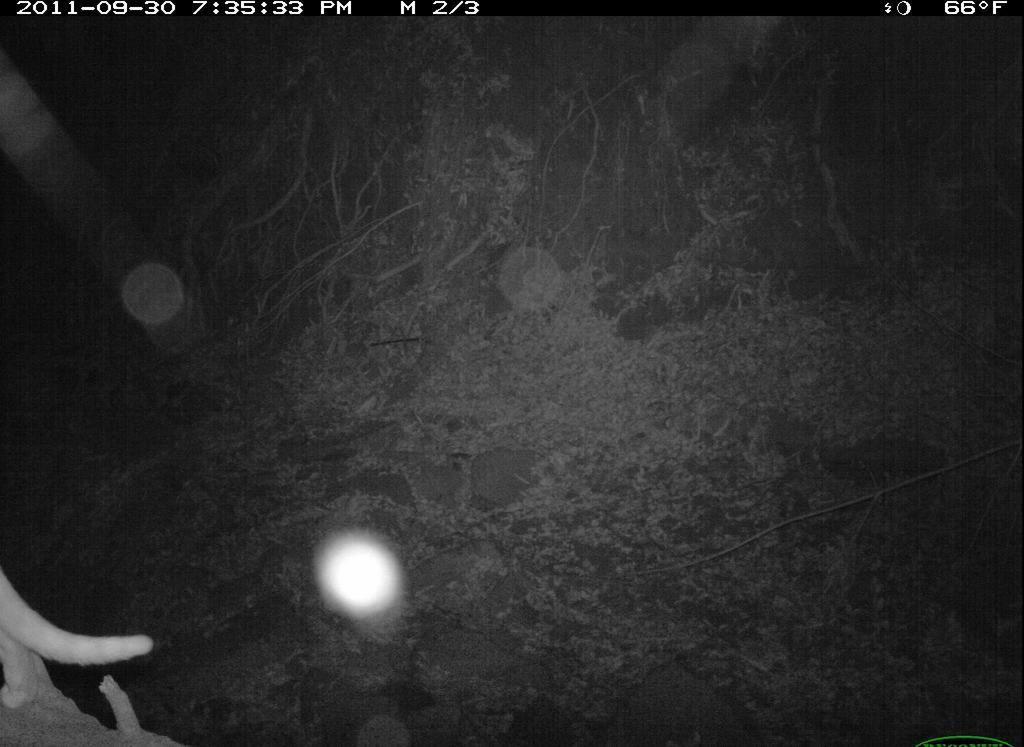cat: (4, 530, 178, 745)
